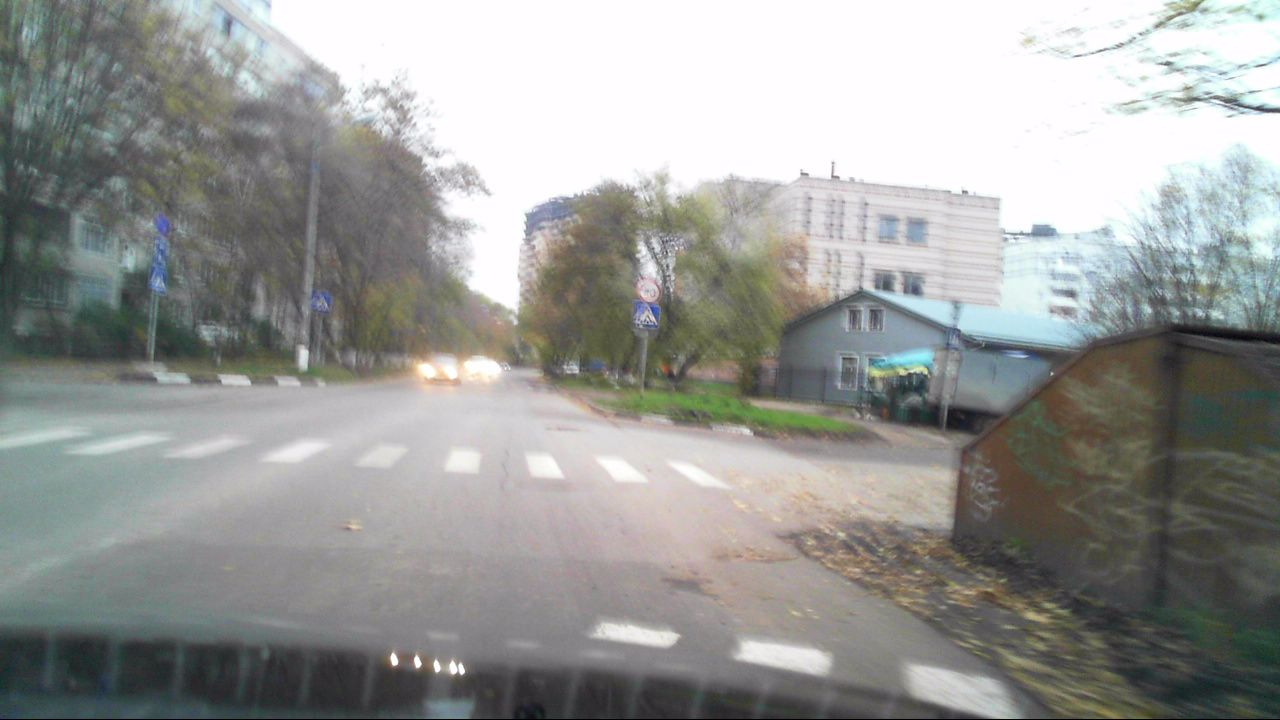speed_warning_40: (639, 282, 660, 302)
